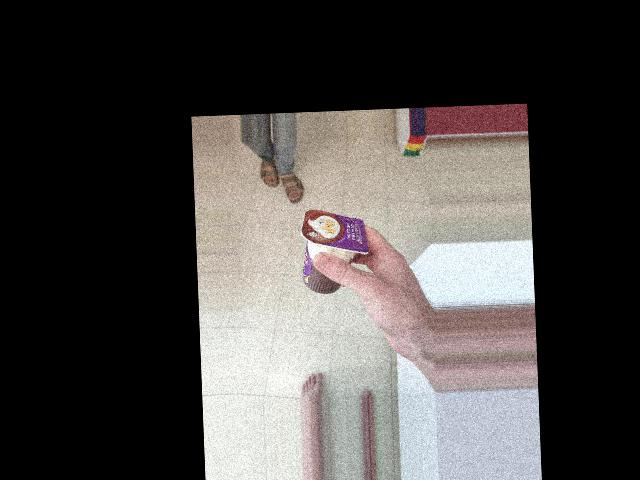milky: (270, 202, 358, 267)
